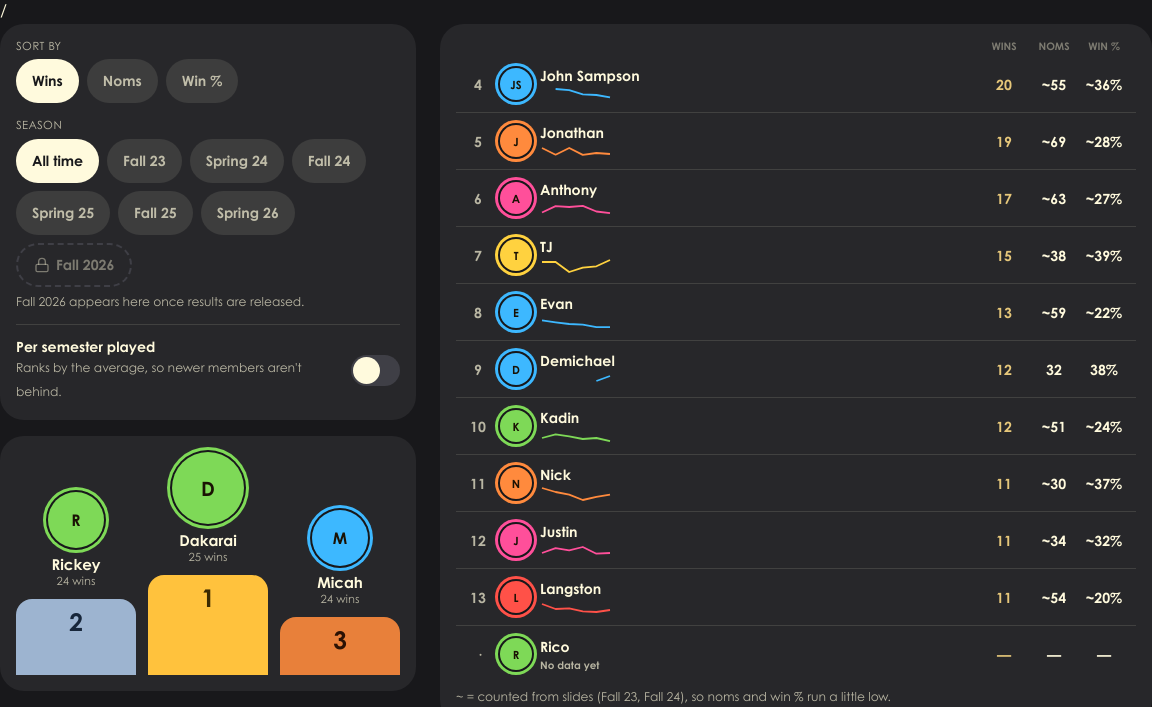
Test case: Leaderboard › the semester picker filters to members who were in it and lists who was not
The image size is (1152, 707).
Click the button "Fall 23": (144, 160) [107, 138, 182, 182]
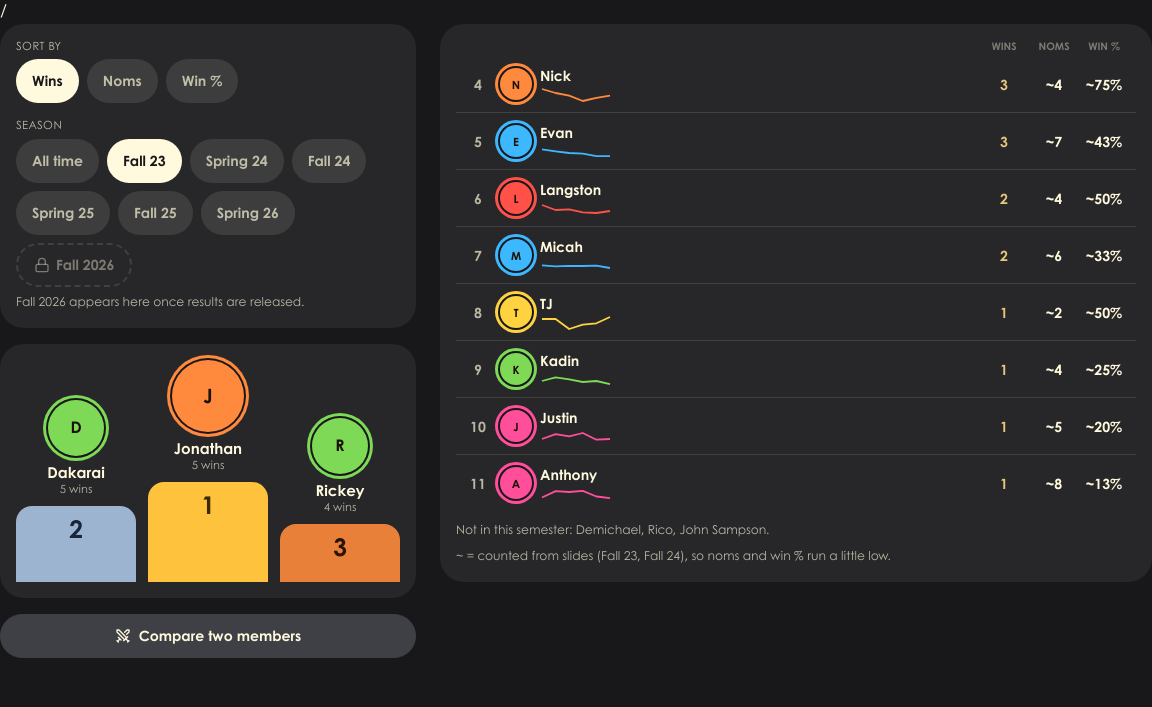
Result: the text "Not in this semester: Demichael, Rico, John Sampson." is shown at [456, 525, 769, 537]
Result: the element named "Podium, Fall 23" is shown at [0, 344, 416, 598]
Result: the text "Per semester played" is gone
